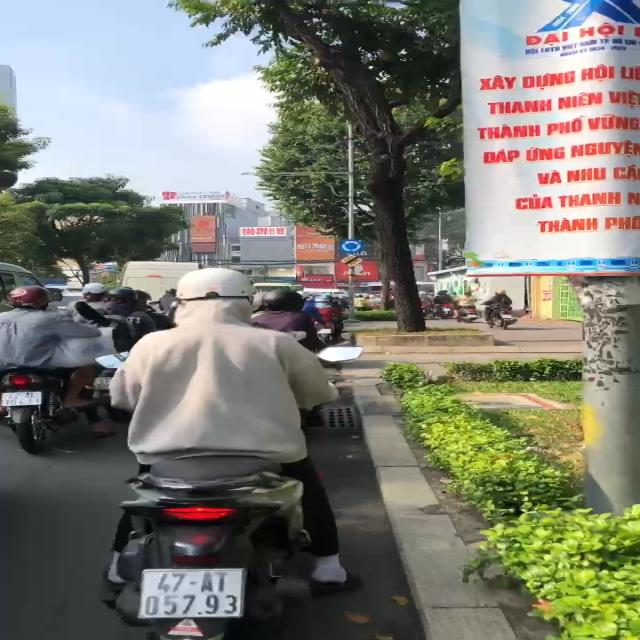Bien bao noi giao nhau chay theo vong xuyen: (338, 236, 370, 254)
